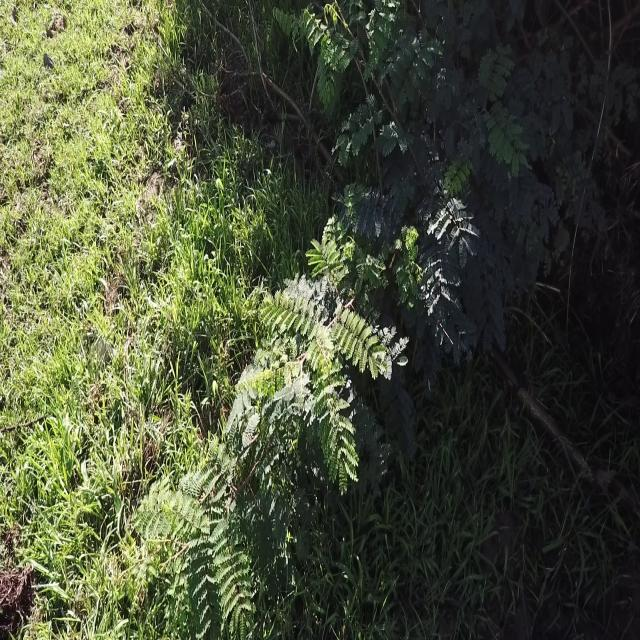Mysore-Thorn-Weed: (127, 0, 640, 631)
